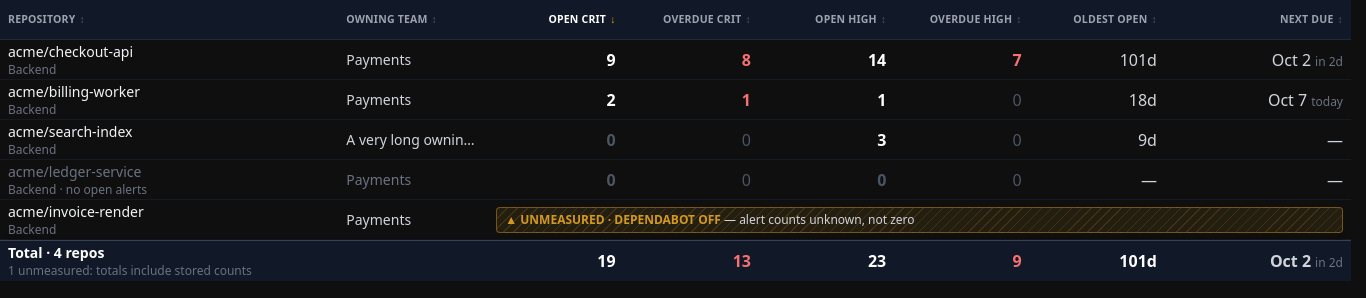
sorting › a first click on another header starts in that header's own direction, and the default header goes back to ↕
Click the button "Repository ↕︎".
click(42, 19)  # box x1=8 y1=13 x2=330 y2=26
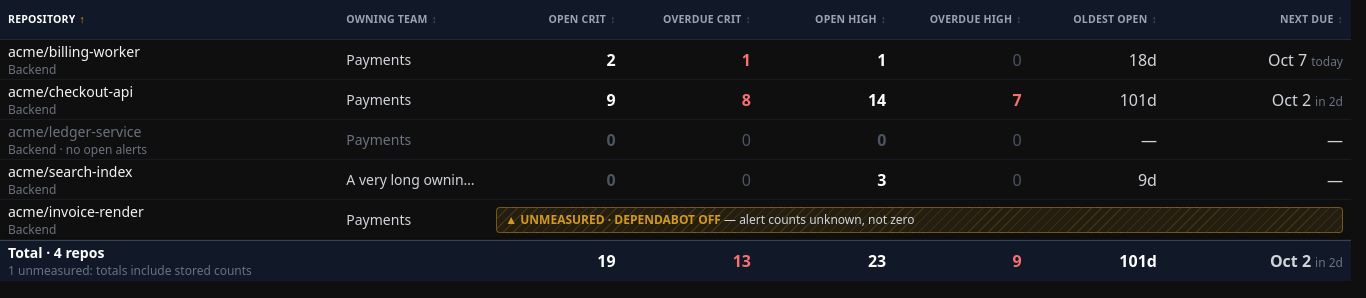
Now the column heading "Open crit ↕︎" is shown, box x1=488 y1=13 x2=624 y2=26
